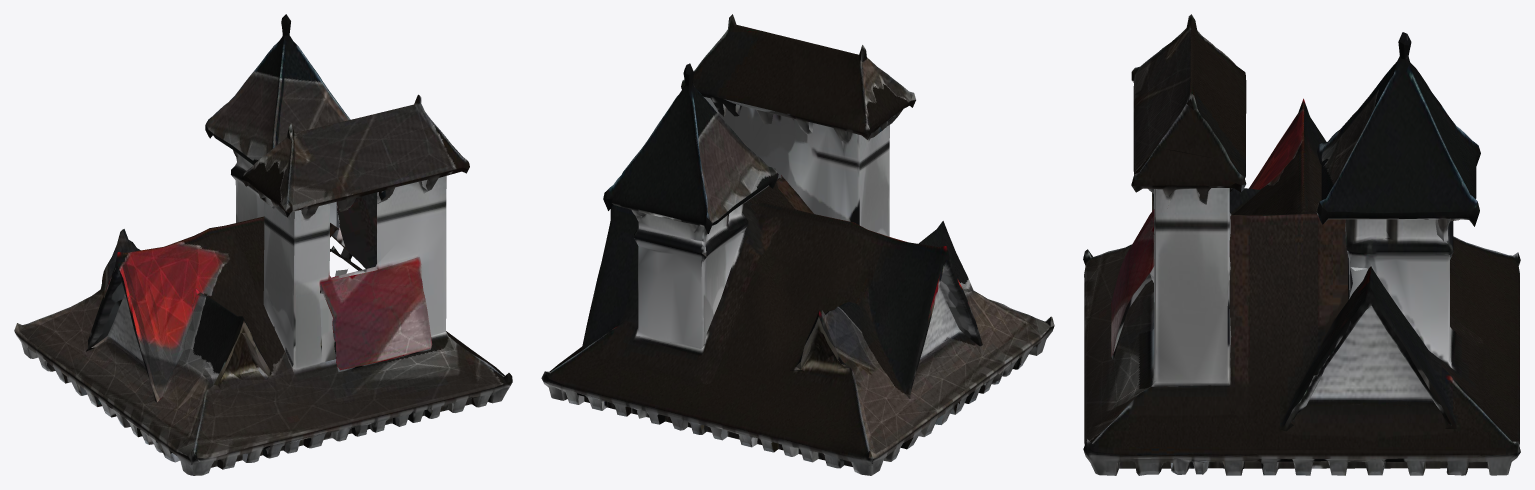
The model's file is ayutthaya_fortaleza_rio.glb.
The picture shows the model from 3 angles, left to right: view 1: azimuth 30°, elevation 25°; view 2: azimuth 150°, elevation 25°; view 3: azimuth 270°, elevation 25°; orthographic projection. The views are drawn at different scales.
Visible parts, largest first — view 1: geometry_0; view 2: geometry_0; view 3: geometry_0.
Part boxes in pixels (bbox=[...]): geometry_0: bbox=[14, 14, 512, 475]; geometry_0: bbox=[541, 14, 1054, 475]; geometry_0: bbox=[1083, 14, 1520, 475].
Size of the model in its own units: 3.4 by 3.17 by 3.23.
1 material, 1 textured.
